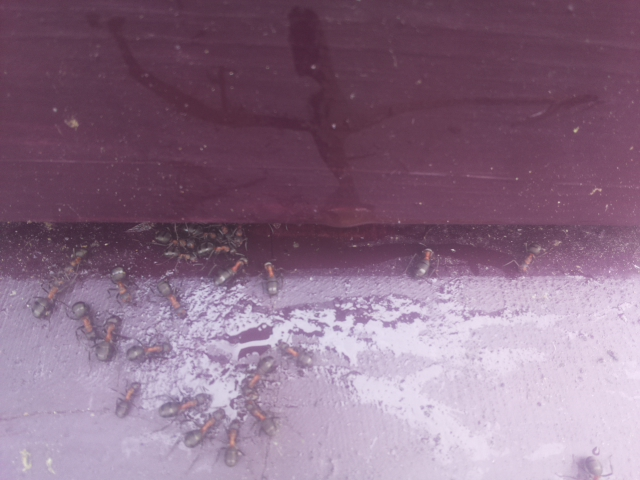ant: (63, 289, 108, 362), (21, 270, 74, 327), (151, 270, 196, 331), (153, 386, 216, 424), (176, 408, 225, 453), (149, 226, 207, 264), (241, 395, 282, 440), (91, 313, 124, 368), (110, 376, 145, 425), (270, 338, 317, 373), (243, 348, 277, 395), (105, 261, 137, 309), (208, 257, 249, 293), (125, 338, 171, 366), (220, 423, 245, 470), (60, 243, 93, 278), (515, 237, 545, 273), (264, 252, 286, 300), (411, 242, 435, 284)
